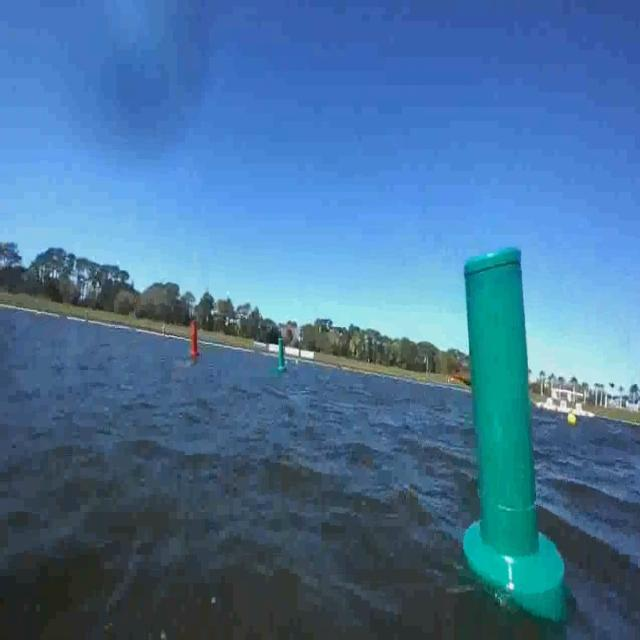green-column-buoy: (458, 247, 554, 607), (273, 332, 290, 384)
red-column-buoy: (182, 302, 202, 360)
